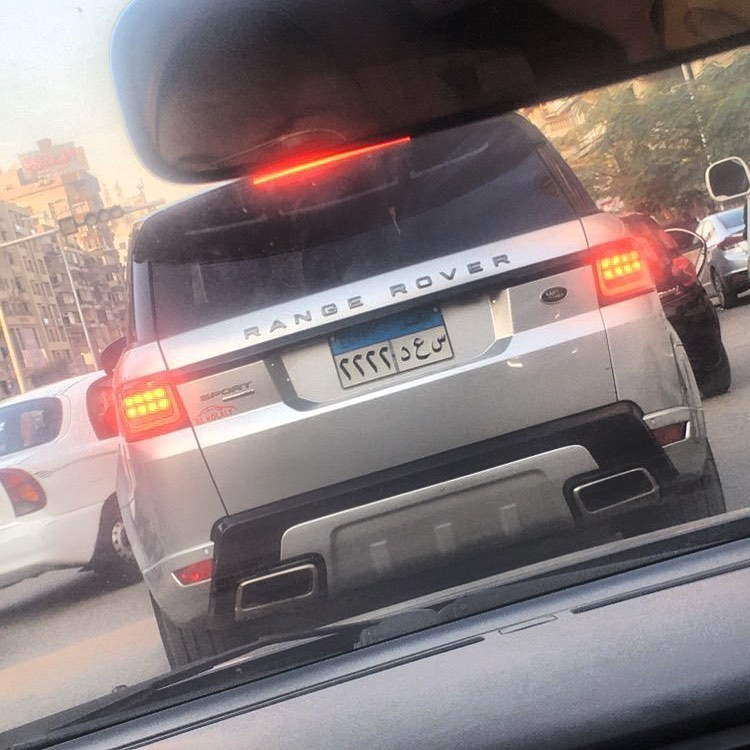carpl: (317, 312, 465, 386)
